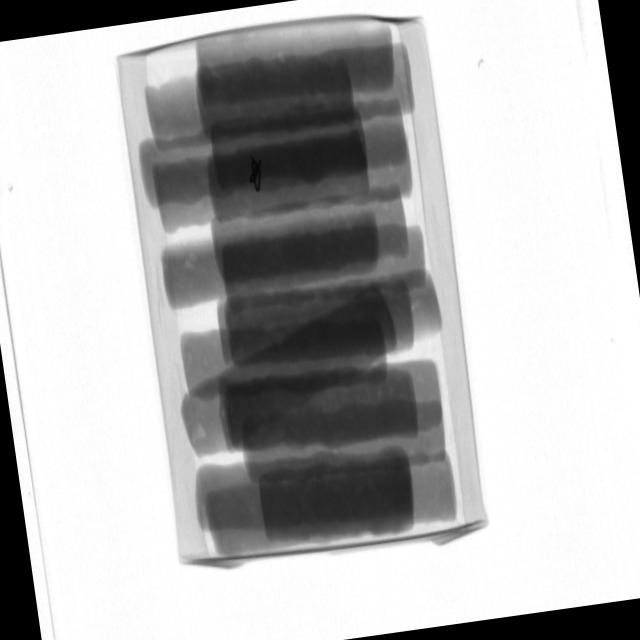ym: (247, 157, 266, 195)
